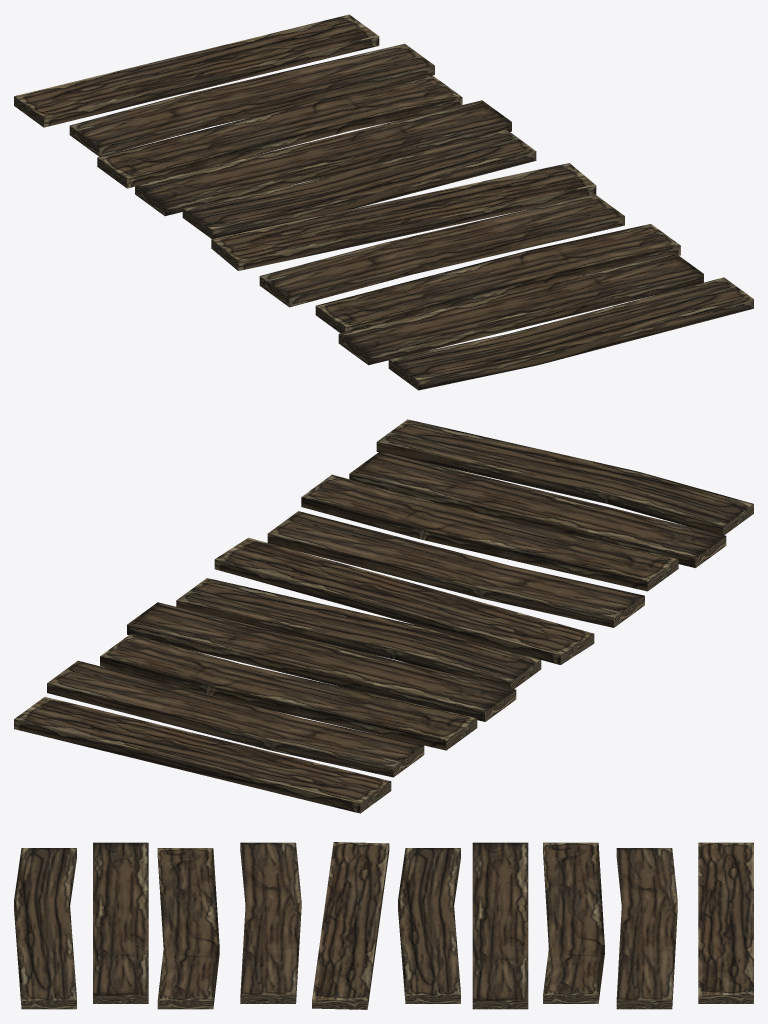
The model's file is Deck_03.fbx.
The picture shows the model from 3 angles, top to bottom: view 1: azimuth 30°, elevation 25°; view 2: azimuth 150°, elevation 25°; view 3: azimuth 270°, elevation 25°; orthographic projection. The views are drawn at different scales.
Parts seen in each view (by area): view 1: Deck_03; view 2: Deck_03; view 3: Deck_03.
Part boxes in pixels (x1,y1,x2,y2): Deck_03: [14, 14, 753, 390]; Deck_03: [14, 419, 753, 813]; Deck_03: [14, 842, 753, 1009].
Size of the model in its own units: 3.91 by 0.1014 by 7.68.
